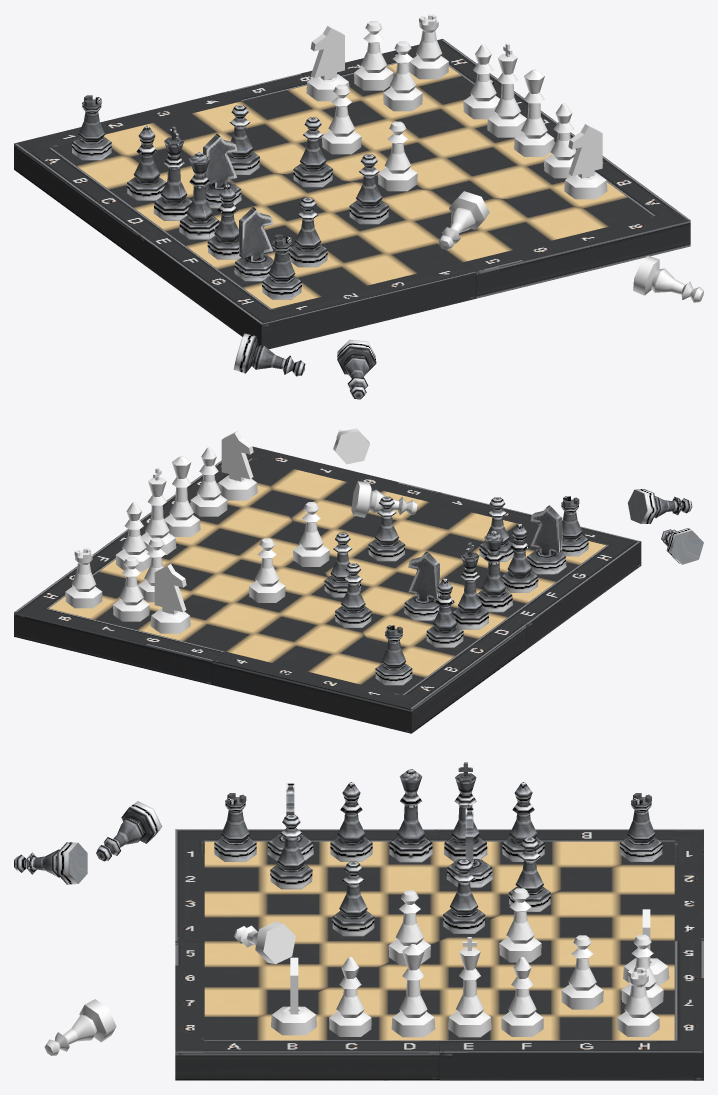
File: Chess.FBX
The picture shows the model from 3 angles, top to bottom: view 1: azimuth 30°, elevation 25°; view 2: azimuth 150°, elevation 25°; view 3: azimuth 270°, elevation 25°; orthographic projection. The views are drawn at different scales.
Parts seen in each view (by area): view 1: Chess; view 2: Chess; view 3: Chess.
Part boxes in pixels (x1=…): Chess: x1=14, y1=14, x2=703, y2=399; Chess: x1=14, y1=428, x2=703, y2=733; Chess: x1=14, y1=762, x2=703, y2=1080.
Size of the model in its own units: 67.27 by 79.22 by 15.29.
